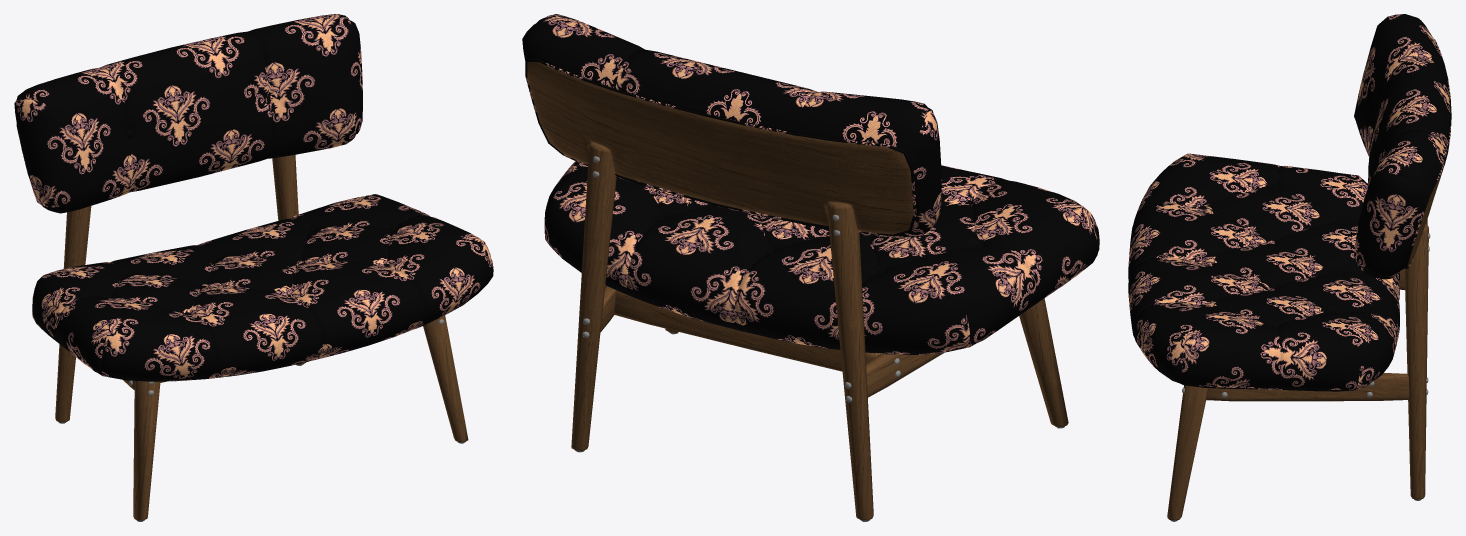
The model's file is ChairDamaskPurplegold.glb.
The picture shows the model from 3 angles, left to right: view 1: azimuth 30°, elevation 25°; view 2: azimuth 150°, elevation 25°; view 3: azimuth 270°, elevation 25°; orthographic projection. The views are drawn at different scales.
Visible parts, largest first — view 1: oval-tufted-chair_back-fabric, oval-tufted-chair_legs-frame; view 2: oval-tufted-chair_back-fabric, oval-tufted-chair_legs-frame; view 3: oval-tufted-chair_back-fabric, oval-tufted-chair_legs-frame.
Boxes of the visible parts, bbox=[...] form: oval-tufted-chair_back-fabric: bbox=[14, 14, 493, 381]; oval-tufted-chair_legs-frame: bbox=[55, 154, 468, 520]; oval-tufted-chair_back-fabric: bbox=[522, 14, 1099, 354]; oval-tufted-chair_legs-frame: bbox=[527, 62, 1068, 520]; oval-tufted-chair_back-fabric: bbox=[1128, 14, 1451, 391]; oval-tufted-chair_legs-frame: bbox=[1167, 170, 1442, 520].
Size of the model in its own units: 0.8286 by 0.6873 by 0.5719.
Materials: 4 (3 with a texture image).
